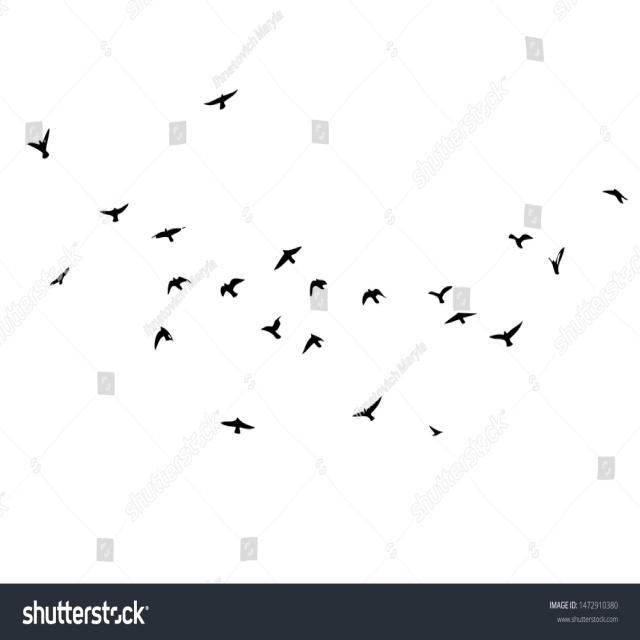bird: (185, 40, 238, 116), (206, 378, 262, 448), (332, 377, 392, 437), (150, 192, 198, 262), (82, 170, 131, 236), (213, 236, 254, 298), (270, 207, 306, 276), (136, 298, 176, 359), (488, 213, 542, 258), (414, 389, 459, 442), (20, 95, 55, 163), (488, 311, 528, 365), (31, 240, 68, 296), (422, 245, 456, 305), (252, 308, 288, 358), (586, 170, 631, 208), (438, 298, 479, 336), (293, 324, 325, 364), (297, 262, 328, 302), (356, 287, 392, 319), (540, 244, 564, 284), (151, 279, 196, 300)
